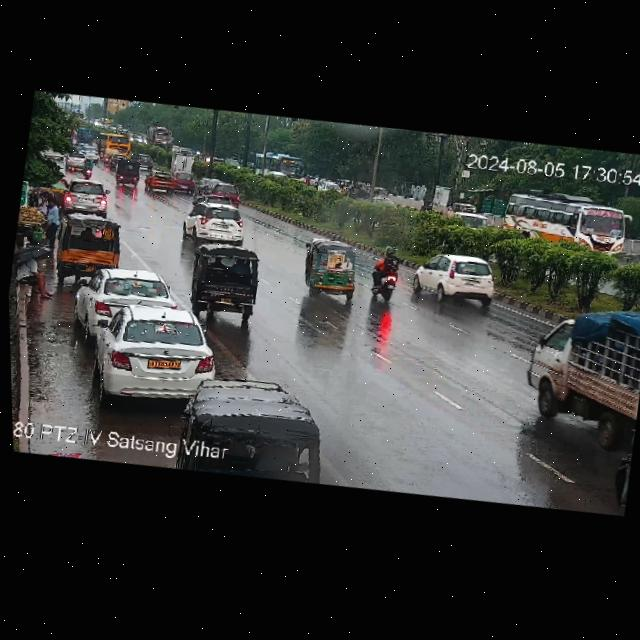bus: (501, 183, 631, 262), (253, 147, 311, 185), (95, 130, 136, 161)
car: (88, 293, 230, 420), (63, 256, 183, 353), (185, 236, 268, 327), (52, 211, 127, 295), (408, 244, 501, 311), (299, 232, 363, 306), (179, 197, 247, 252), (61, 175, 112, 221), (111, 156, 145, 192), (210, 179, 244, 208), (145, 167, 175, 196), (192, 174, 223, 199), (172, 169, 198, 195), (75, 142, 101, 165), (64, 151, 90, 173), (134, 153, 155, 171), (453, 202, 480, 215), (109, 153, 128, 170), (335, 177, 354, 194), (355, 181, 371, 199), (373, 188, 388, 199)
motorcycle: (367, 243, 405, 307), (81, 156, 95, 183), (373, 197, 396, 209), (320, 180, 341, 192), (317, 178, 323, 189)
truck: (514, 300, 640, 440), (143, 124, 180, 150), (169, 151, 197, 177)
